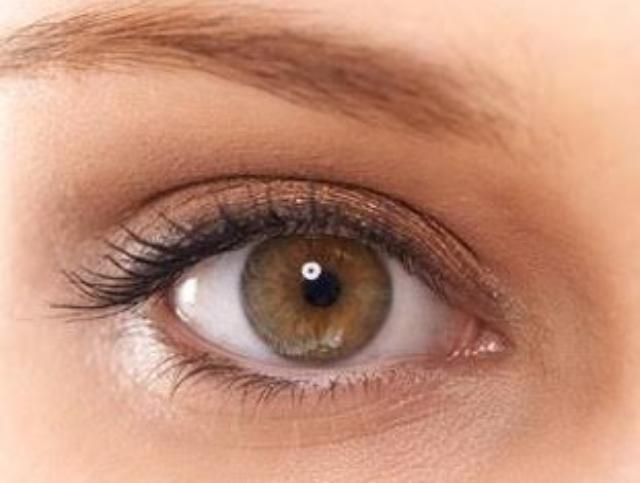eye: (243, 222, 397, 372)
